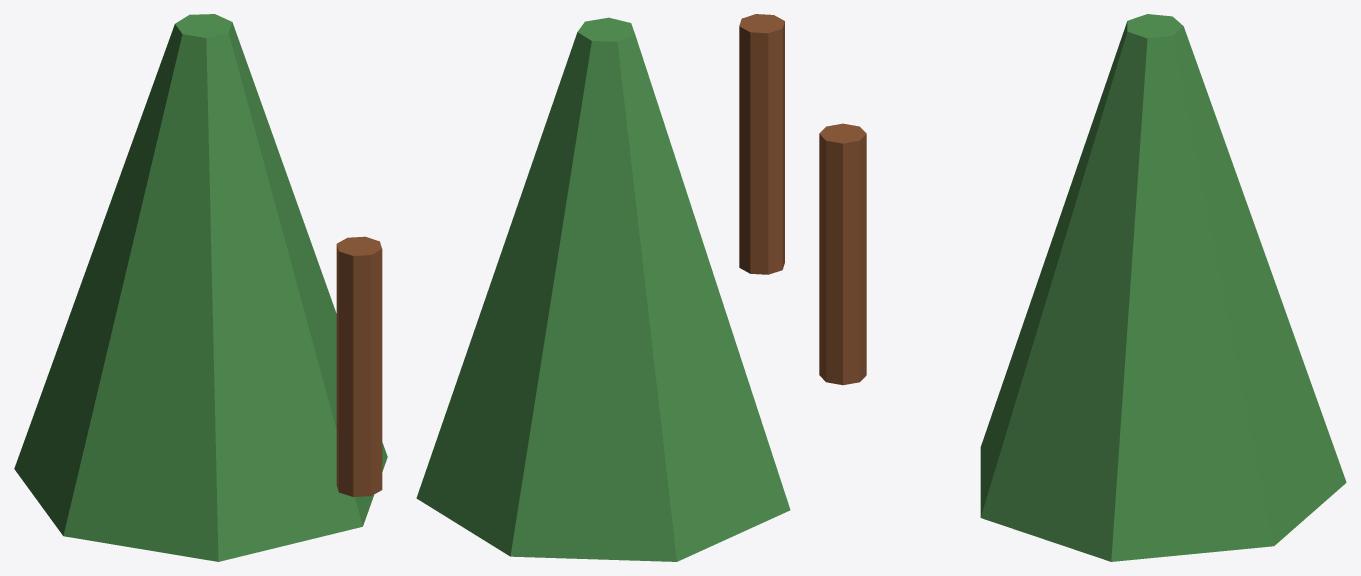
File: env_mic_009.glb
3 renders of one model, left to right at view 1: azimuth 30°, elevation 25°; view 2: azimuth 150°, elevation 25°; view 3: azimuth 270°, elevation 25°, orthographic.
Visible parts, largest first — view 1: canopy.002, trunk.002; view 2: canopy.002, trunk.002; view 3: canopy.002, trunk.002.
Boxes of the visible parts, x1,y1,x2,y2 form: canopy.002: [14, 14, 387, 561]; trunk.002: [336, 236, 382, 496]; canopy.002: [416, 17, 790, 561]; trunk.002: [739, 14, 784, 274]; canopy.002: [980, 14, 1346, 561]; trunk.002: [819, 123, 866, 385].
Size of the model in its own units: 1.27 by 1.7 by 1.78.
